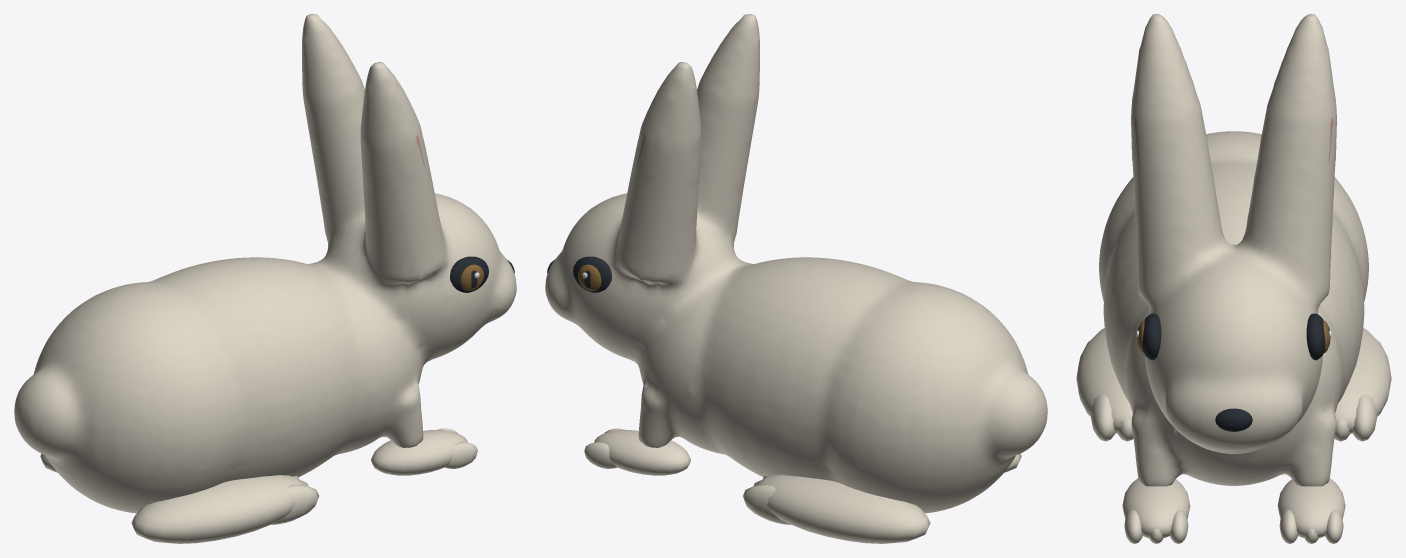
The model's file is domestic-rabbit.glb.
3 renders of one model, left to right at view 1: azimuth 30°, elevation 25°; view 2: azimuth 150°, elevation 25°; view 3: azimuth 270°, elevation 25°, orthographic. The views are drawn at different scales.
Parts seen in each view (by area): view 1: Continuous anatomical skin, Rounded paw, Rounded paw.001, Toe, Dark eye socket; view 2: Continuous anatomical skin, Rounded paw.002, Rounded paw.003, Toe.008, Dark eye socket.001; view 3: Continuous anatomical skin, Rounded paw.002, Rounded paw, Rounded paw.001, Rounded paw.003, Toe, Toe.008, Dark eye socket, Dark eye socket.001, Pet nose, Toe.005, Toe.009 (+2 smaller).
Part boxes in pixels (box(x1,y1,x2,y2)): Continuous anatomical skin: box(14, 14, 516, 513); Rounded paw: box(131, 475, 305, 543); Rounded paw.001: box(371, 430, 467, 475); Toe: box(270, 484, 318, 524); Dark eye socket: box(450, 256, 488, 292); Continuous anatomical skin: box(545, 14, 1047, 513); Rounded paw.002: box(756, 475, 930, 543); Rounded paw.003: box(594, 430, 690, 475); Toe.008: box(743, 484, 791, 524); Dark eye socket.001: box(573, 256, 611, 292); Continuous anatomical skin: box(1099, 14, 1368, 486); Rounded paw.002: box(1335, 328, 1391, 433); Rounded paw: box(1076, 328, 1132, 433); Rounded paw.001: box(1122, 478, 1190, 537); Rounded paw.003: box(1277, 478, 1345, 537); Toe: box(1090, 393, 1115, 441); Toe.008: box(1352, 393, 1377, 441); Dark eye socket: box(1142, 313, 1161, 360); Dark eye socket.001: box(1306, 313, 1325, 360); Pet nose: box(1215, 408, 1252, 431); Toe.005: box(1170, 509, 1188, 543); Toe.009: box(1279, 509, 1297, 543).
Bounding box in the file's own units: 0.4157 × 0.34 × 0.198.
Materials: 5 (5 with a texture image).
